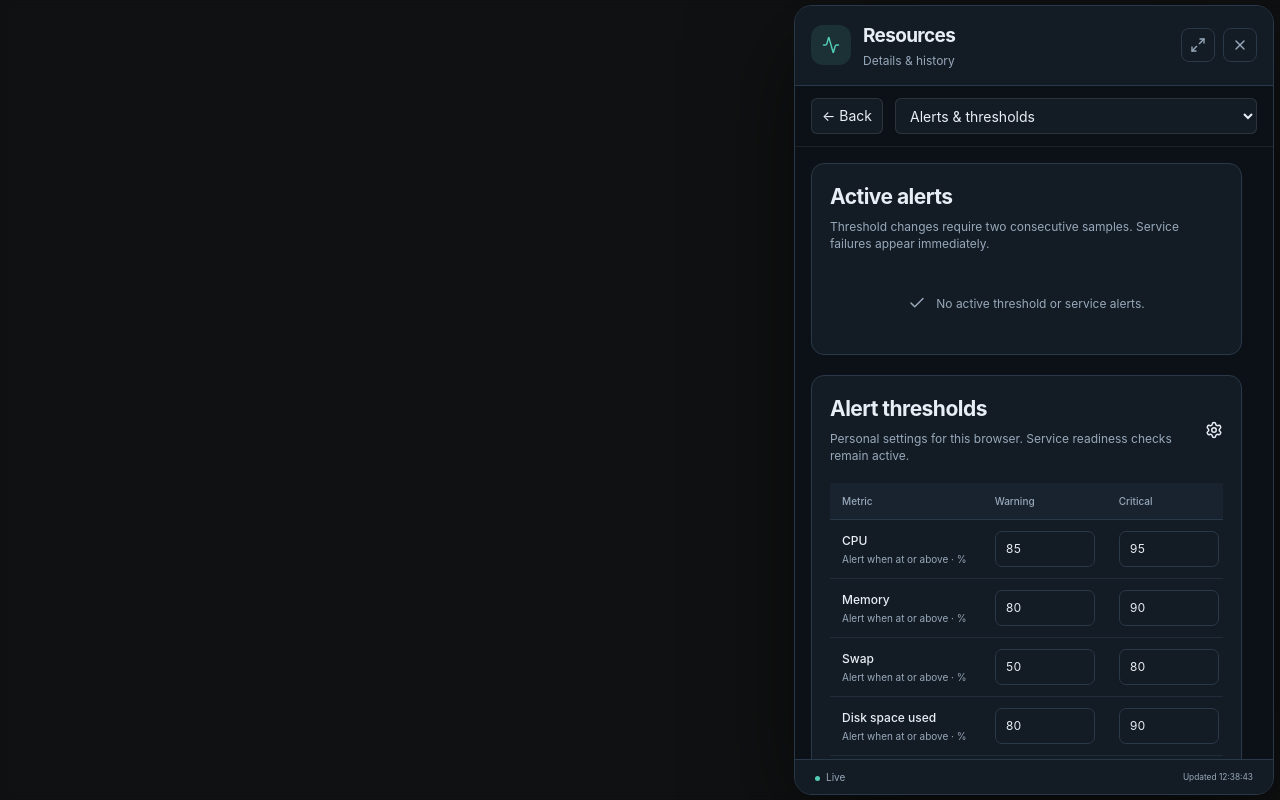
Scenario: shared health UI › stores thresholds and applies the same warning to resources and rail
The width and height of the screenshot is (1280, 800).
Replace the text in the number field named "CPU warning" with "20" at (1045, 549), box [995, 531, 1095, 567]
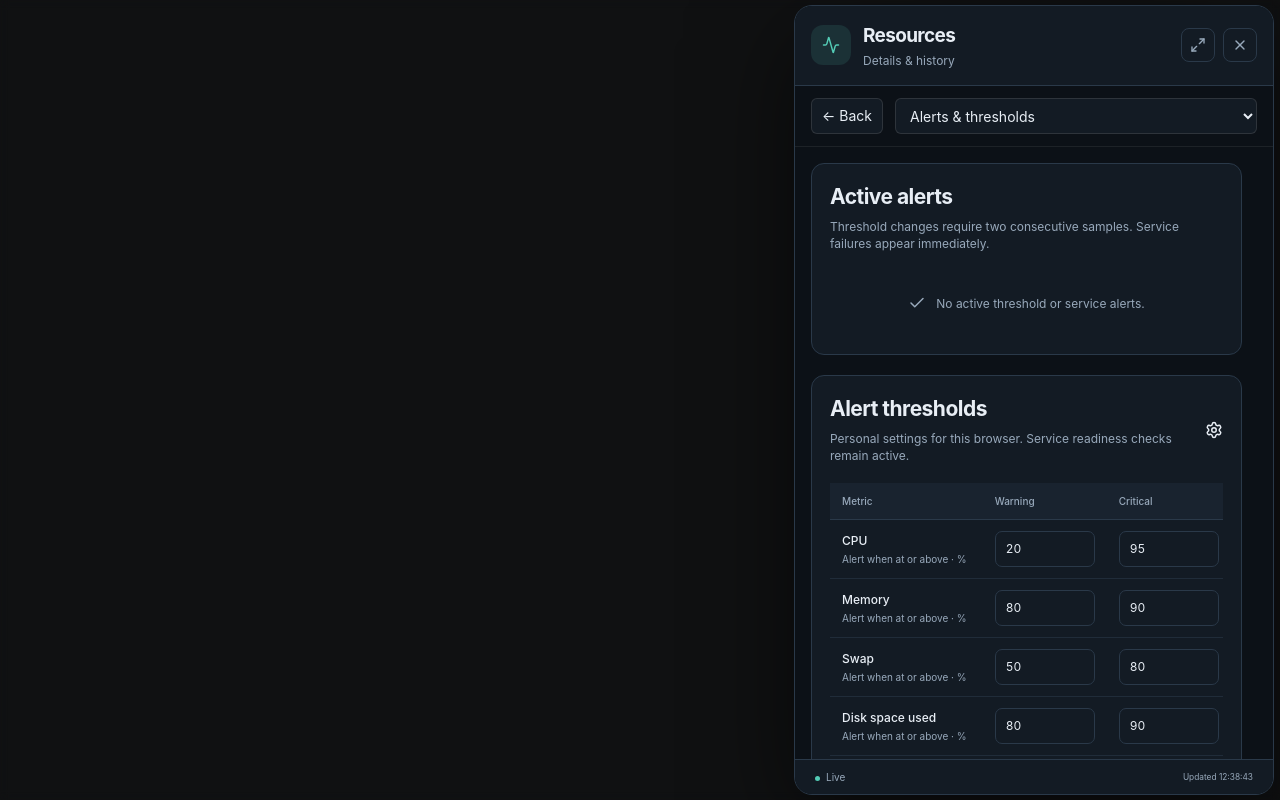
Replace the text in the number field named "CPU critical" with "30" at (1169, 549), box [1119, 531, 1219, 567]
(page scrolled)
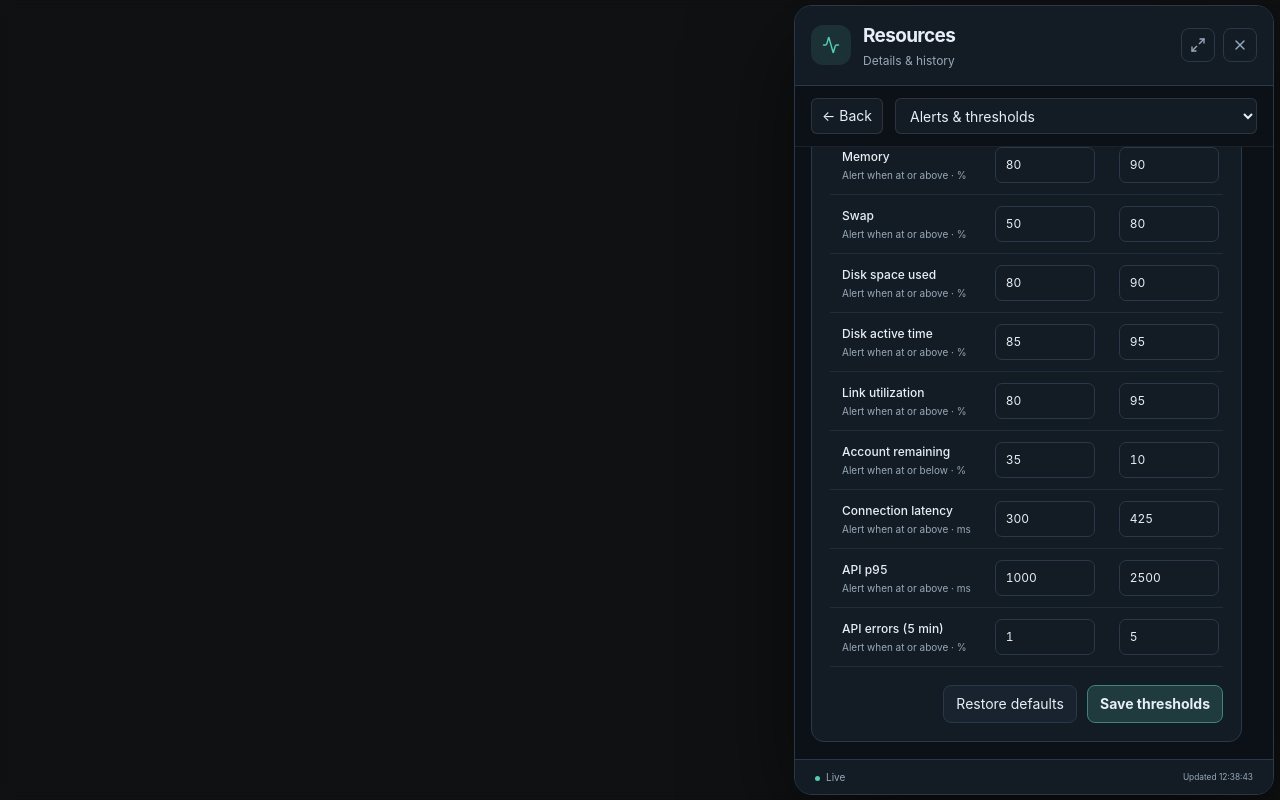
Click the button "Save thresholds" at (1155, 704), box [1087, 685, 1223, 724]
Wait 4000 ms
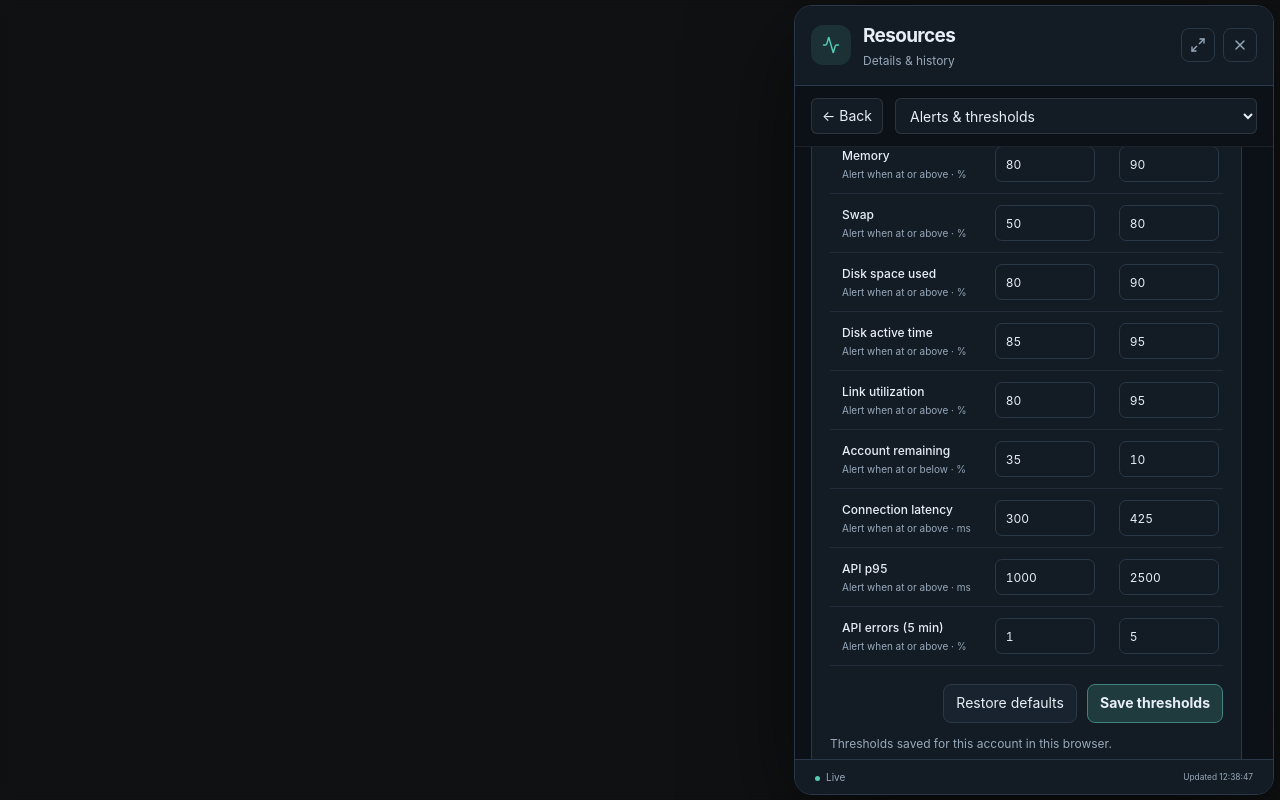
Click the button named "Close Resources" at (1240, 46), box [1223, 28, 1257, 62]
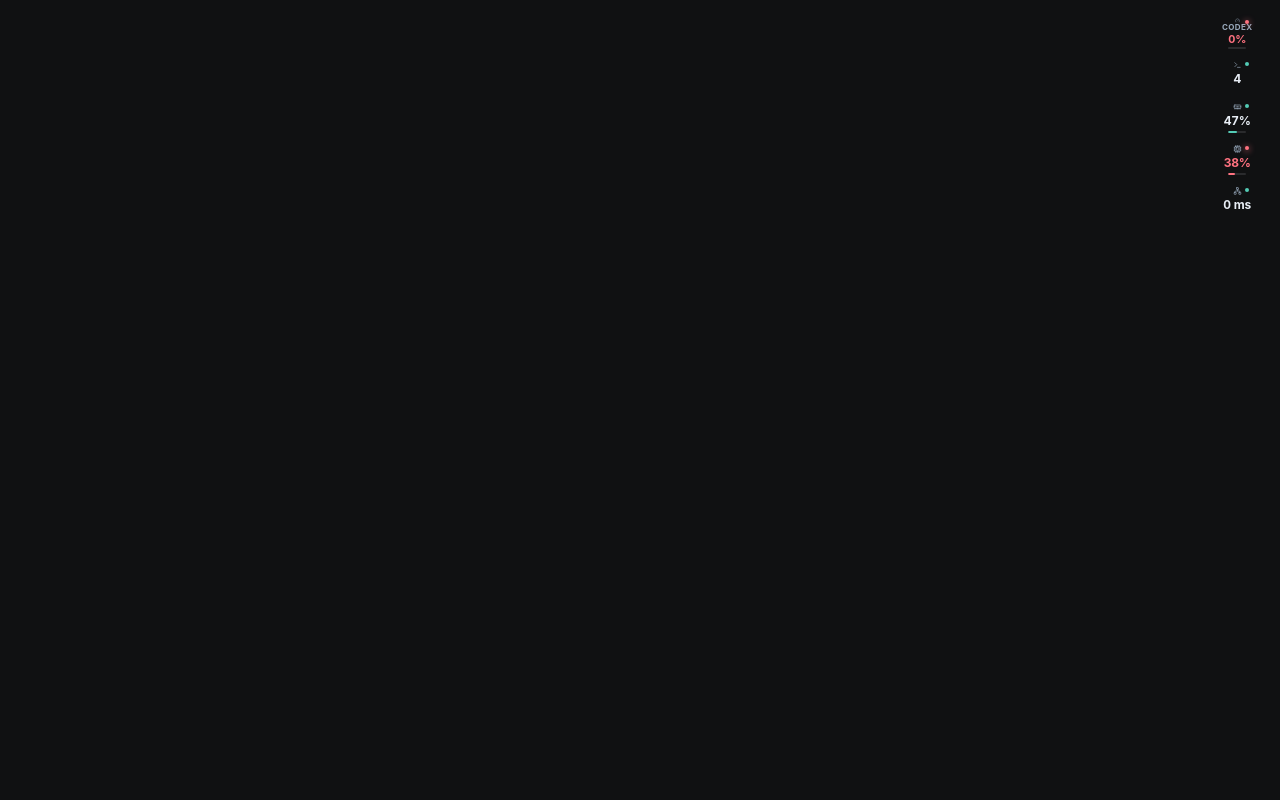
Click the button "38%" at (1237, 158), box [1219, 140, 1255, 176]
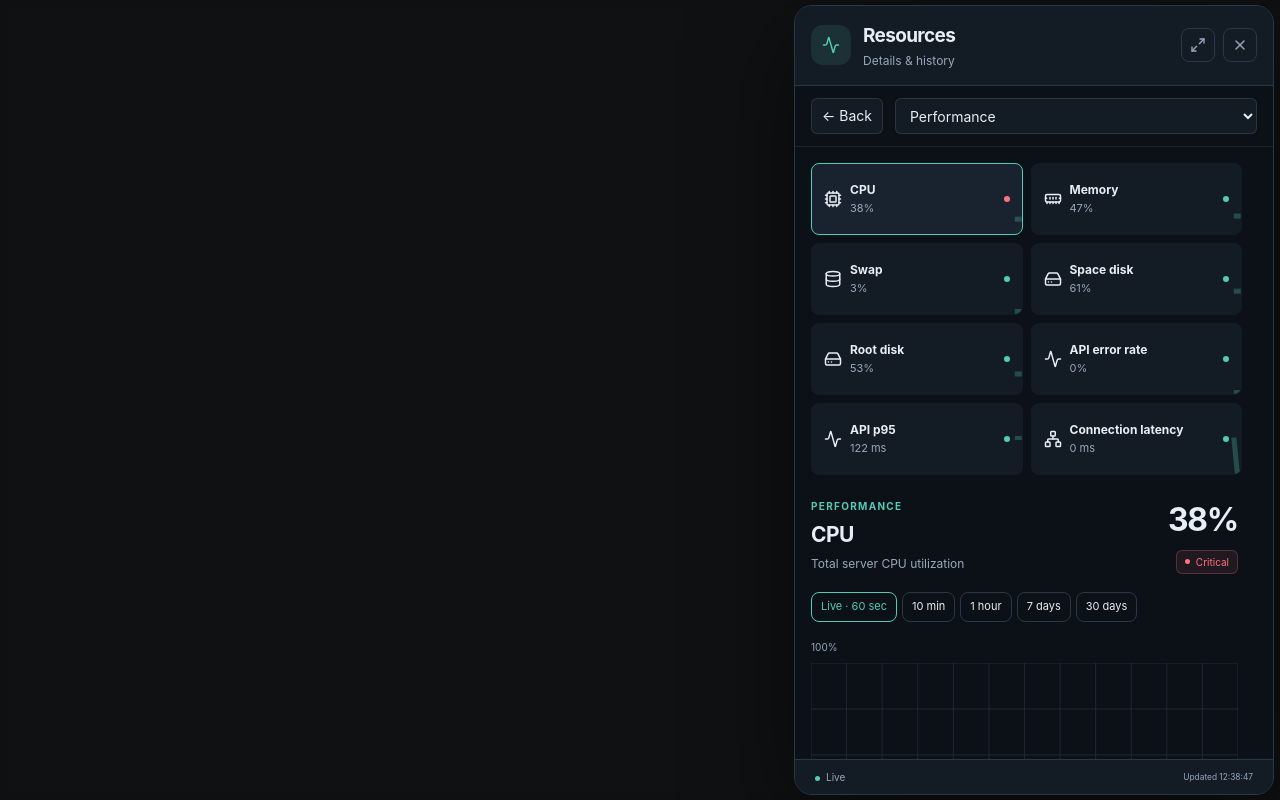
Expected: the 1st icon with class "is-critical" is shown, [1004, 196, 1010, 202]
